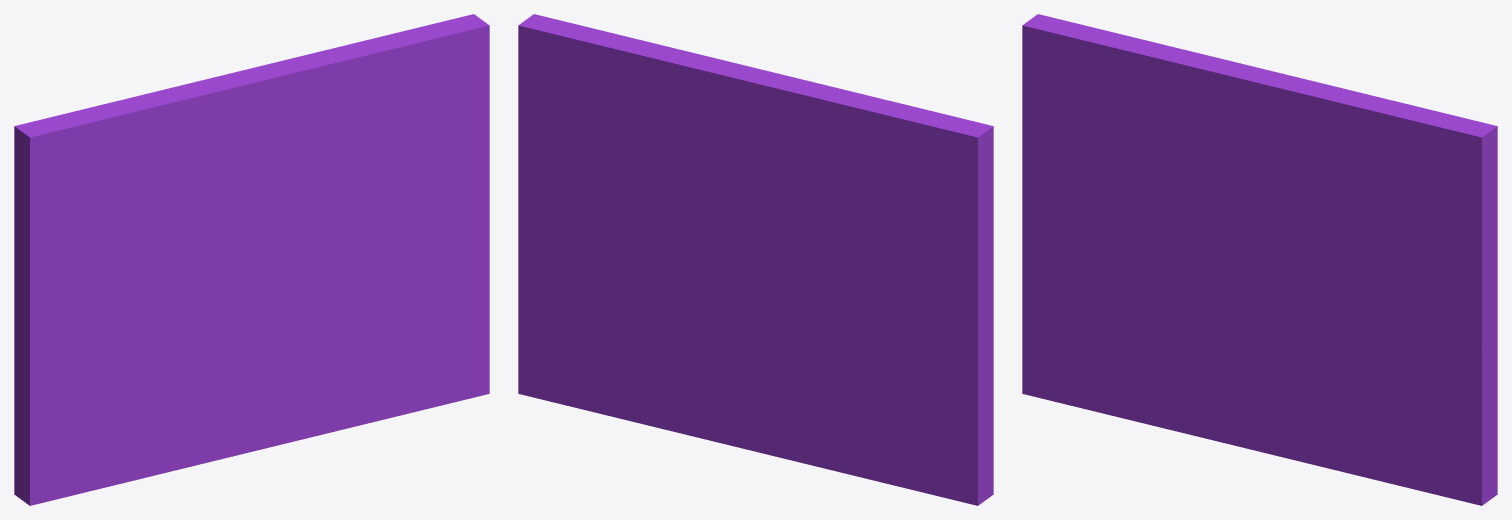
Rendered from Barrier_168_chunks.fbx.
The picture shows the model from 3 angles, left to right: view 1: azimuth 30°, elevation 25°; view 2: azimuth 150°, elevation 25°; view 3: azimuth 330°, elevation 25°; orthographic projection.
Parts seen in each view (by area): view 1: Barrier_168_0, Barrier_168_3, Barrier_168_2; view 2: Barrier_168_0, Barrier_168_3, Barrier_168_2, Barrier_168_1; view 3: Barrier_168_0, Barrier_168_3, Barrier_168_2.
Part boxes in pixels (<box>): Barrier_168_0: <box>14,87,259,505</box>; Barrier_168_3: <box>174,14,489,259</box>; Barrier_168_2: <box>131,238,489,481</box>; Barrier_168_0: <box>755,86,993,505</box>; Barrier_168_3: <box>518,14,829,266</box>; Barrier_168_2: <box>518,250,844,473</box>; Barrier_168_1: <box>697,252,876,481</box>; Barrier_168_0: <box>1022,14,1251,418</box>; Barrier_168_3: <box>1186,53,1497,350</box>; Barrier_168_2: <box>1123,260,1497,505</box>.
Size of the model in its own units: 376 by 288 by 22.1.
